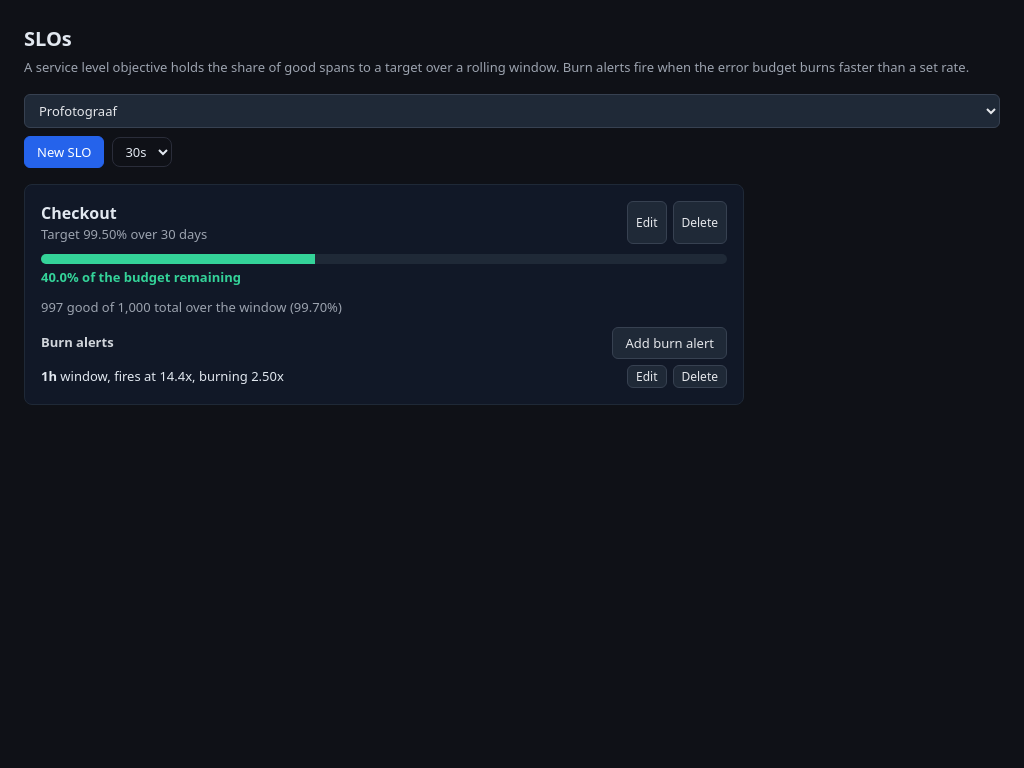
Test: SlosPage burn alerts › rejects an alert window as long as the SLO window
expect the element "Checkout" is shown: met, box [24,184,744,405]
Click the button with aria-label "Add burn alert to Checkout" at point(670, 343), box [612,327,727,359]
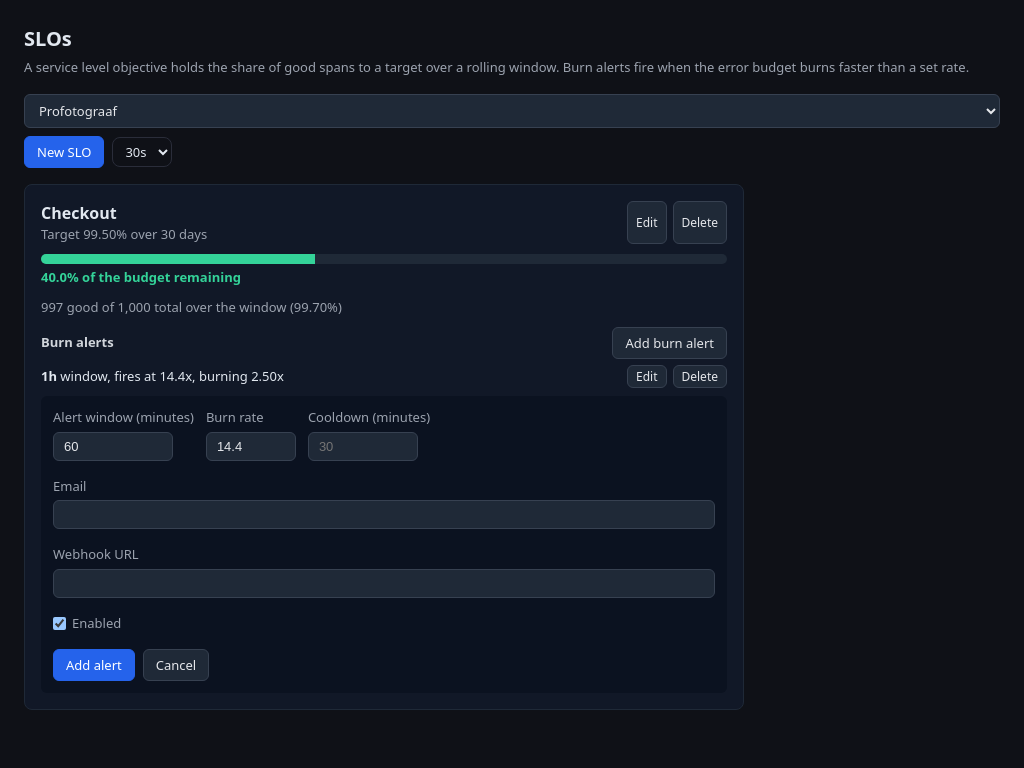
Replace the text in the field labelled "Alert window (minutes)" with "43200" at point(113, 446), box [53,432,173,460]
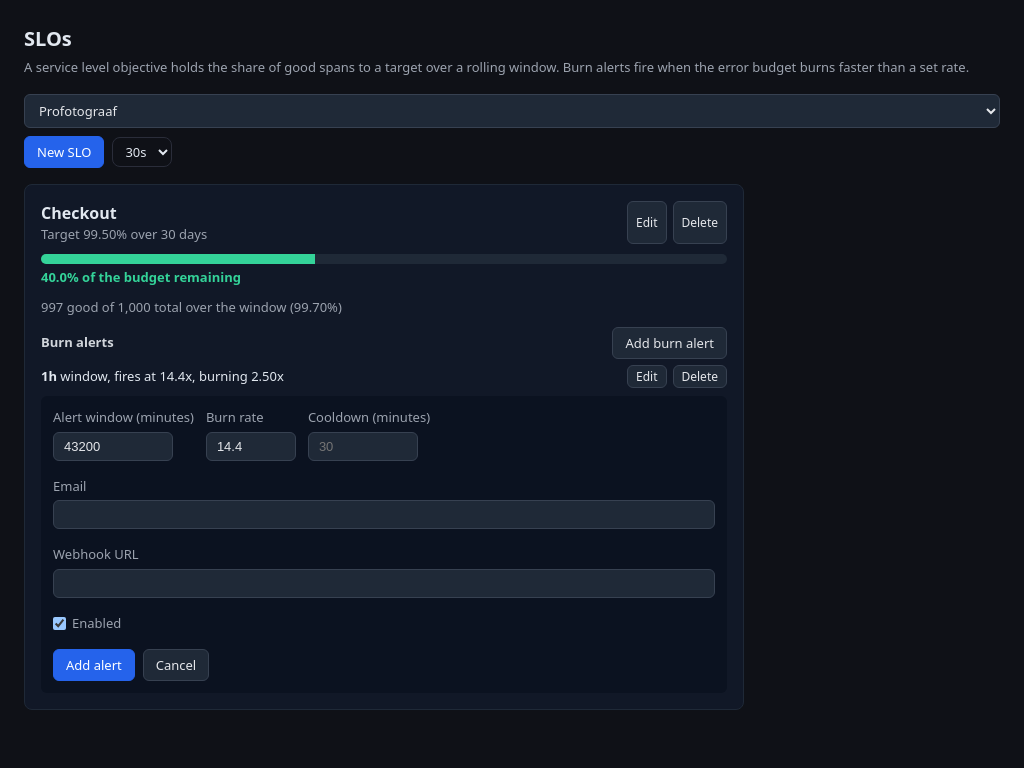
Click the button "Add alert" at point(94, 665), box [53,649,135,681]
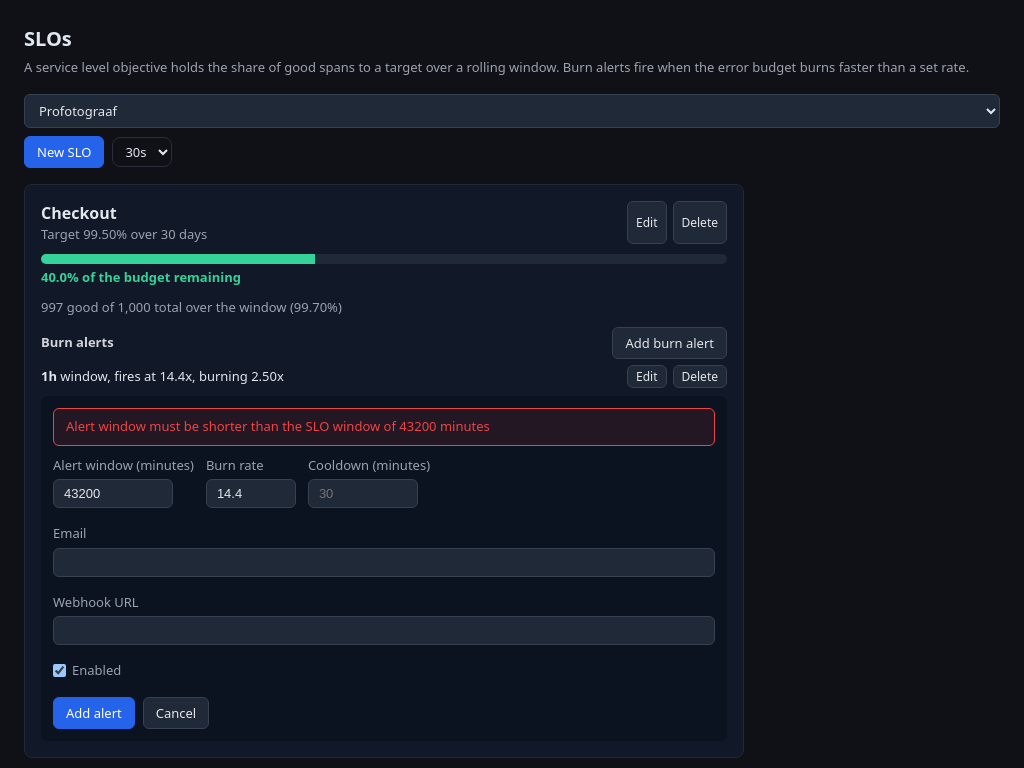
expect the message shows "shorter than the SLO window of 43200 minutes": met, box [66,417,490,435]
